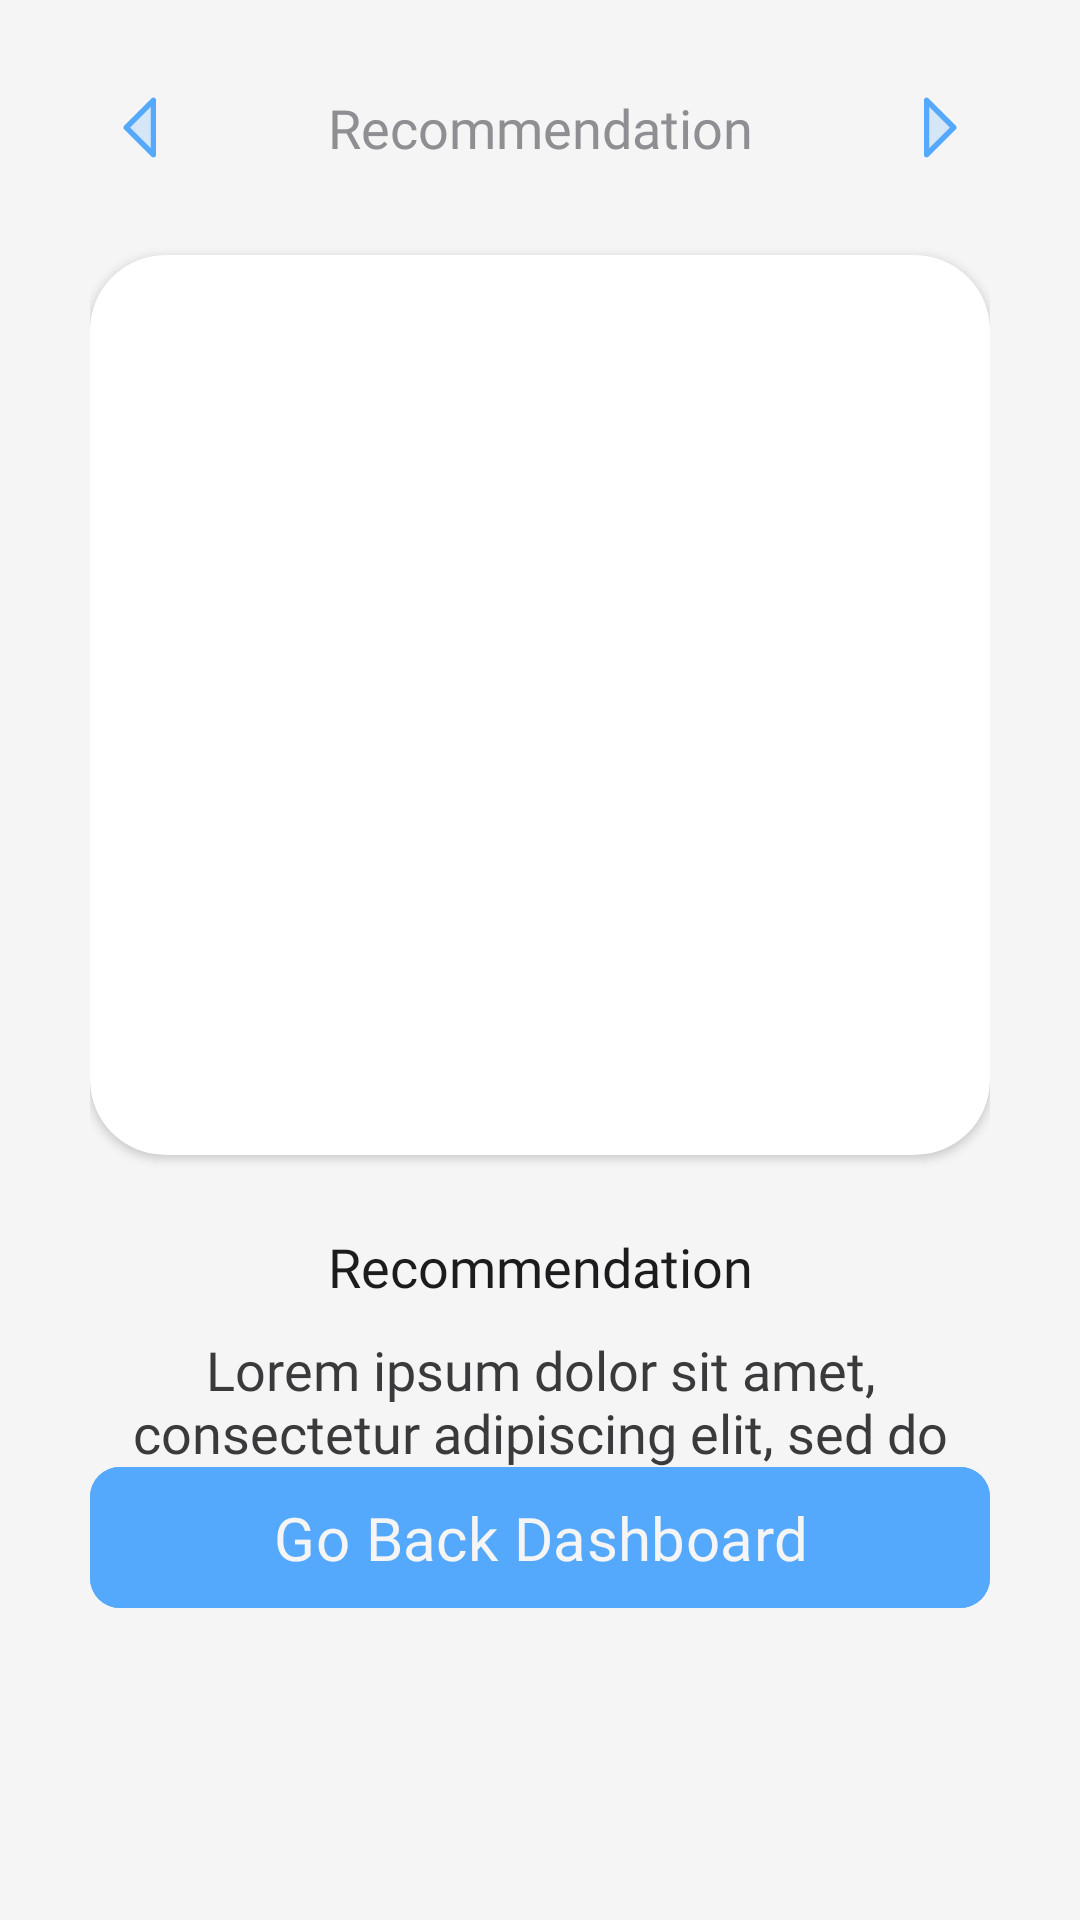

Where to tap for icons on this 1080*1920 app screen, as (x,y):
arrow left: (139,127)
arrow right: (940,127)
